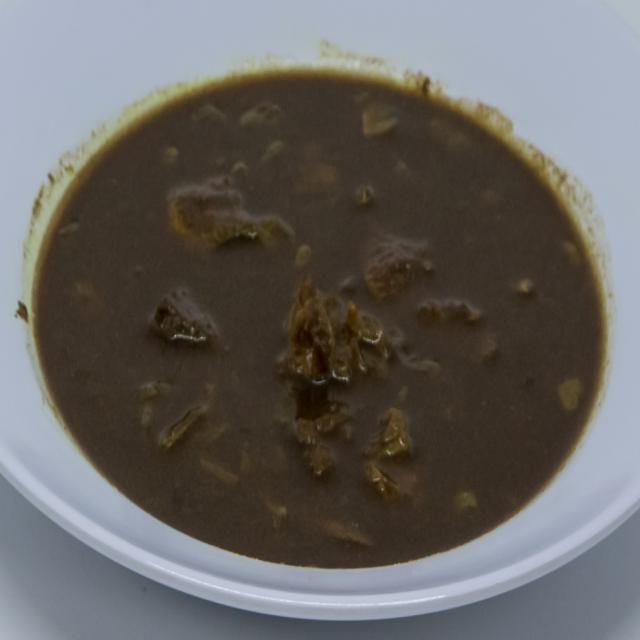Rawon-Surabaya: (18, 46, 621, 584)
